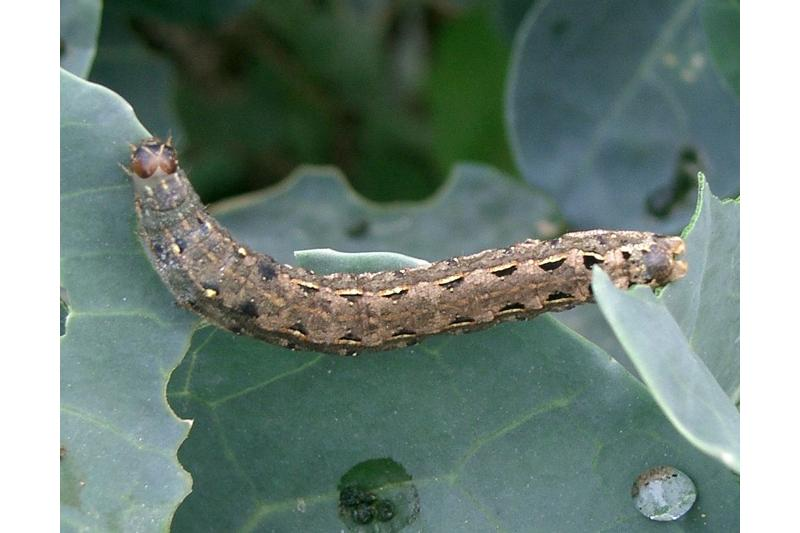fall-armyworm: (121, 140, 691, 359)
